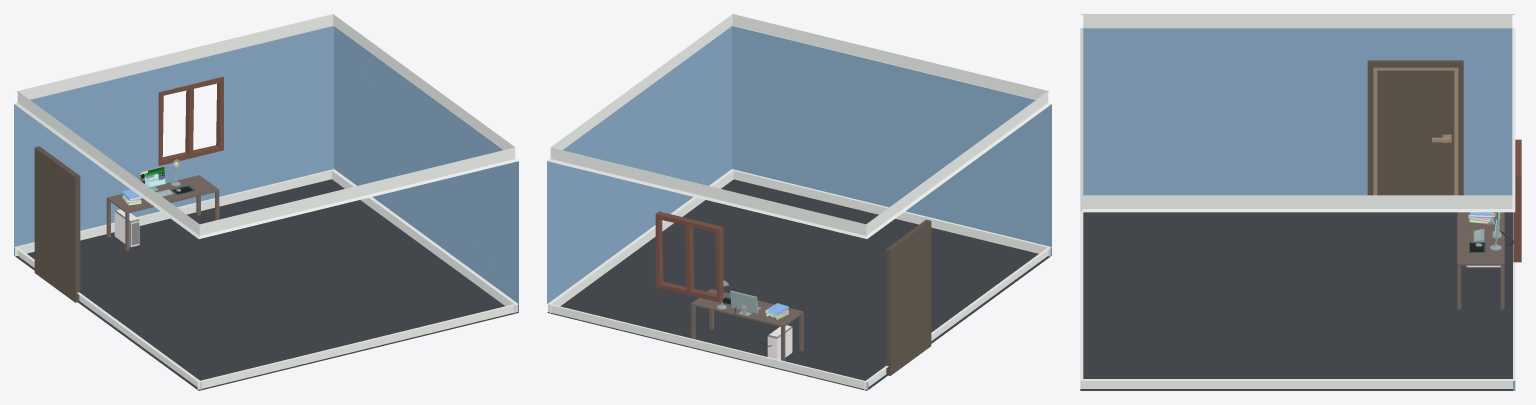
The picture shows the model from 3 angles, left to right: view 1: azimuth 30°, elevation 25°; view 2: azimuth 150°, elevation 25°; view 3: azimuth 270°, elevation 25°; orthographic projection. The views are drawn at different scales.
Parts seen in each view (by area): view 1: books, keyboard; view 2: books, keyboard; view 3: books, keyboard.
Part boxes in pixels (x1,y1,x2,y2): books: (14,14,518,390); keyboard: (14,14,518,312); books: (547,14,1051,390); keyboard: (547,14,1051,390); books: (1080,14,1521,390); keyboard: (1081,14,1515,390).
Size of the model in its own units: 9.22 by 4.55 by 9.32.
5 materials, 5 textured.
